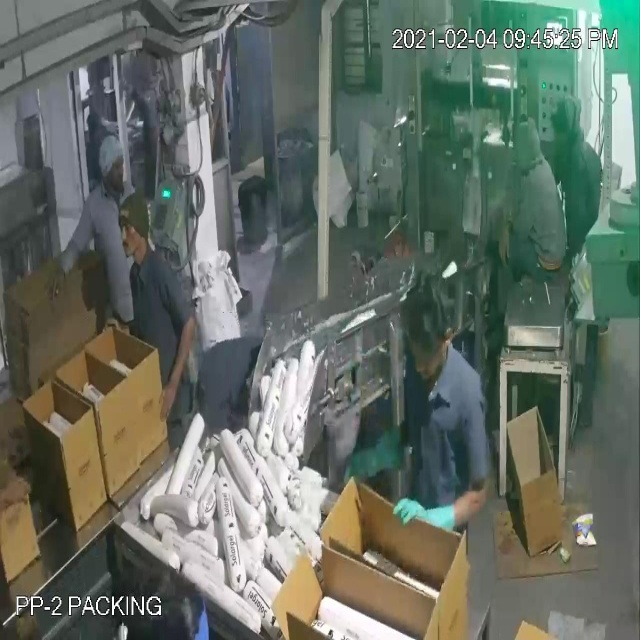Guantes: (336, 414, 424, 496), (385, 482, 490, 541)
Sin_guantes: (153, 303, 204, 443), (40, 216, 94, 306), (0, 456, 40, 526), (491, 208, 518, 274)
